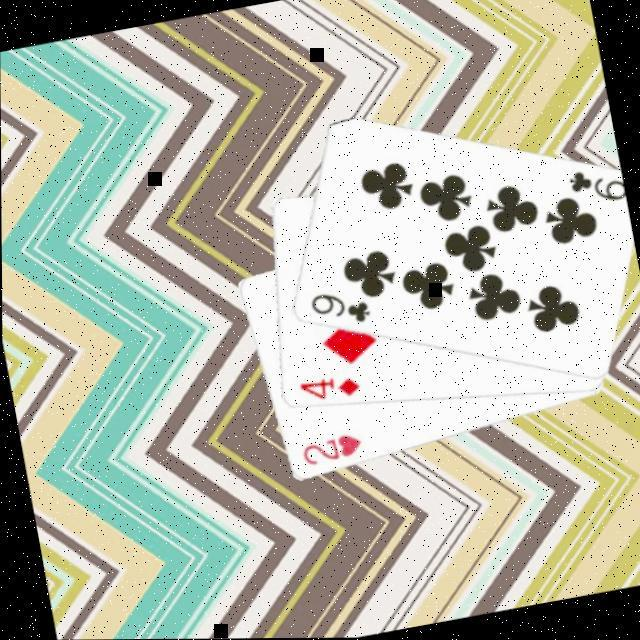2H: (296, 428, 366, 469)
4D: (294, 368, 364, 408)
9C: (306, 281, 374, 333), (563, 160, 625, 211)
